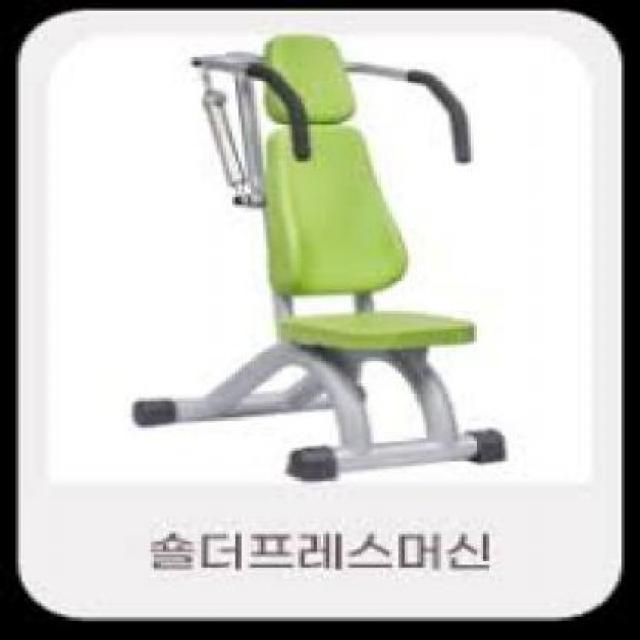shoulder press machine: (94, 31, 531, 492)
